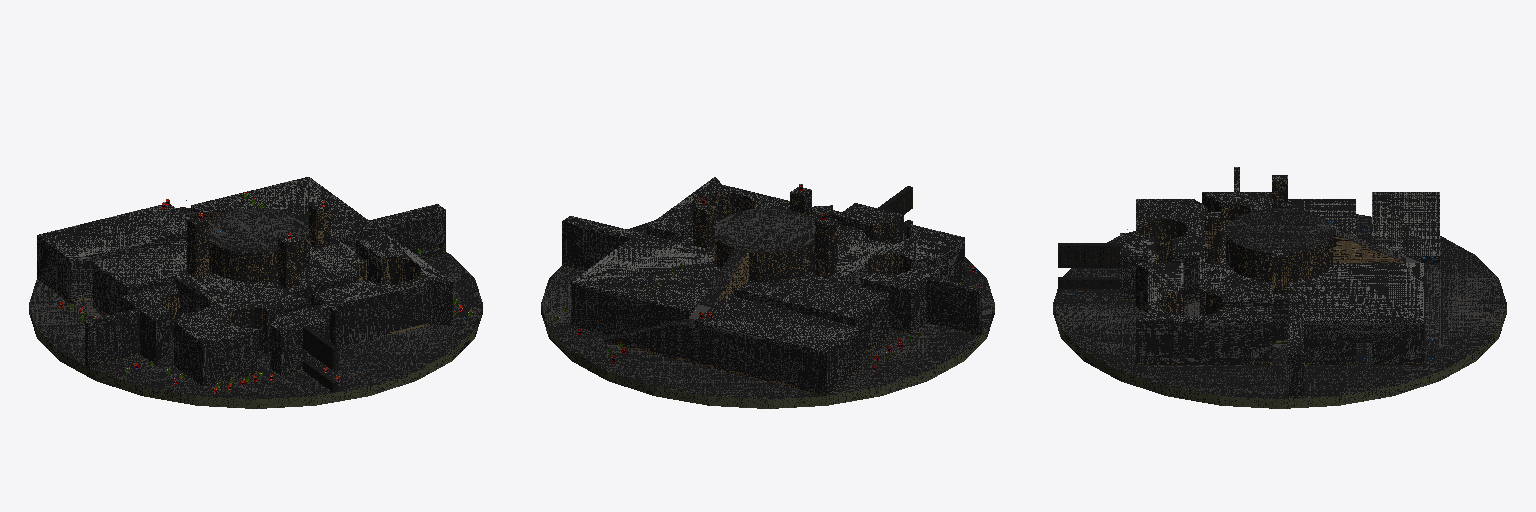
3 renders of one model, left to right at view 1: azimuth 30°, elevation 25°; view 2: azimuth 150°, elevation 25°; view 3: azimuth 270°, elevation 25°, orthographic.
Visible parts, largest first — view 1: Mesh288 Model; view 2: Mesh288 Model; view 3: Mesh288 Model.
Boxes of the visible parts, x1,y1,x2,y2 form: Mesh288 Model: [29, 177, 482, 408]; Mesh288 Model: [541, 177, 994, 408]; Mesh288 Model: [1053, 167, 1506, 408].
Bounding box in the file's own units: 84.77 × 23.59 × 84.77.
13 materials, 6 textured.